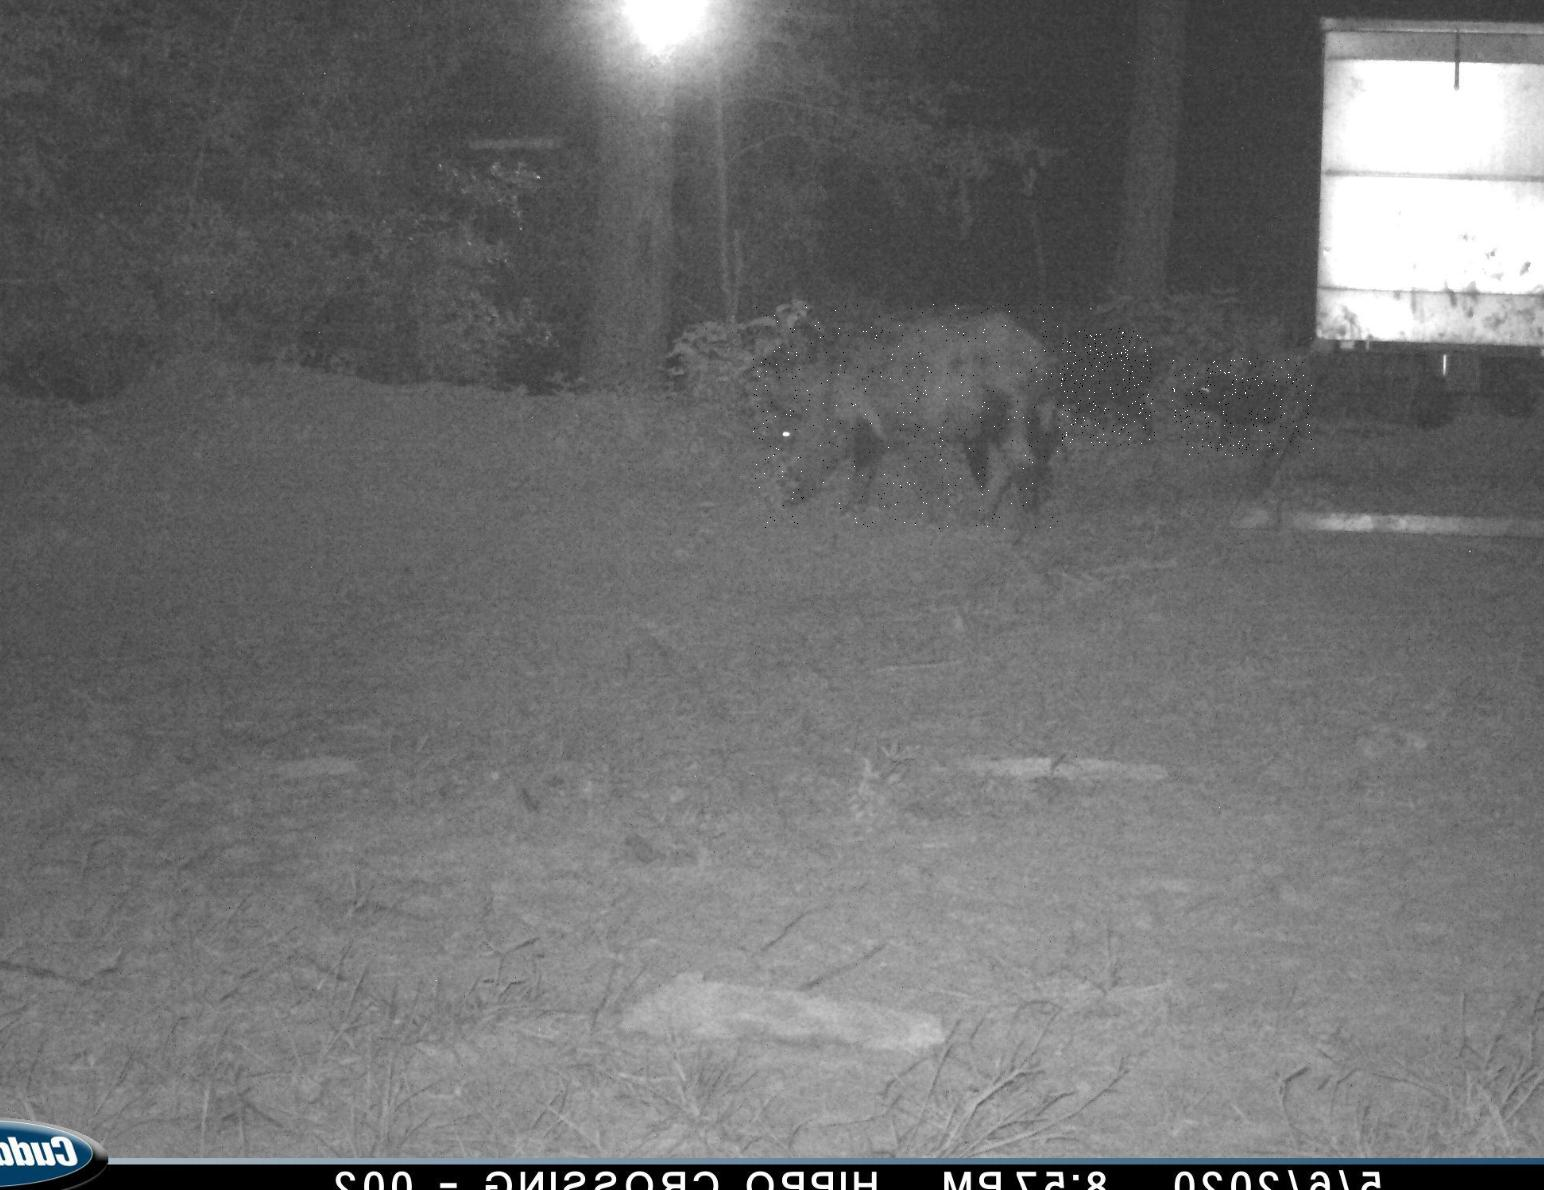Hog: (753, 304, 1061, 530), (1031, 329, 1155, 446), (1171, 359, 1314, 456)
